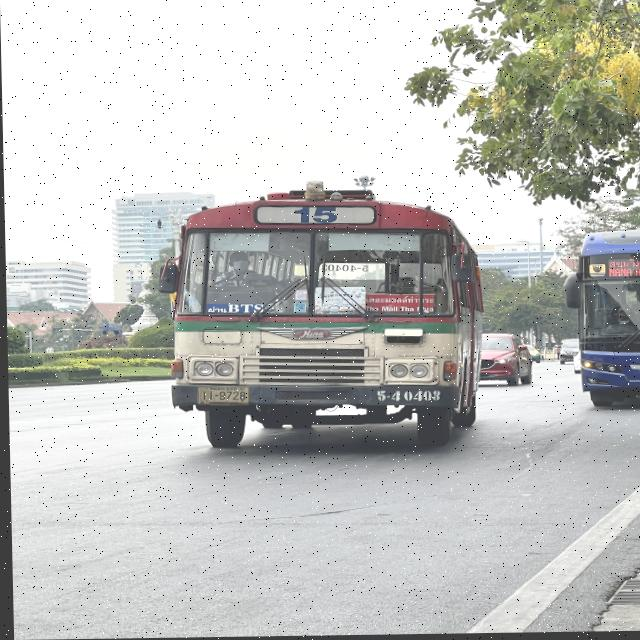BMTA-bus: (164, 182, 486, 453)
Bus-Line-Number: (283, 203, 350, 227)
Destination-Sign-Extra-Bus: (357, 291, 438, 316)
TSB-Bus: (564, 232, 640, 412)
